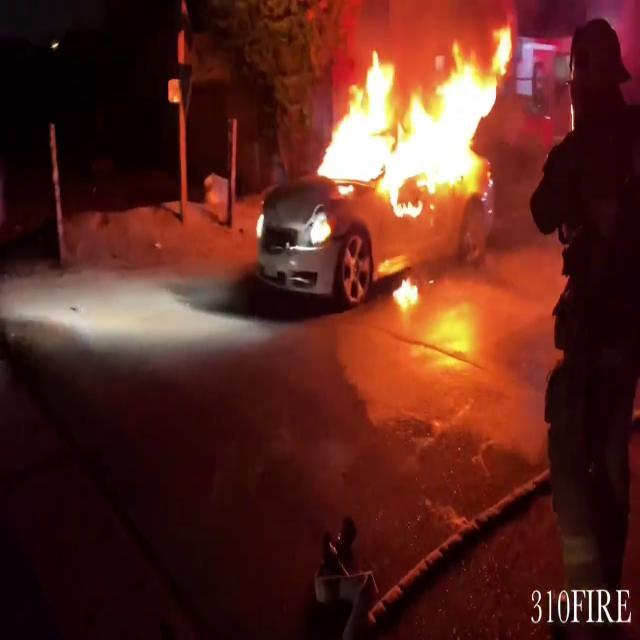Fire: (309, 14, 517, 213), (390, 270, 423, 316)
